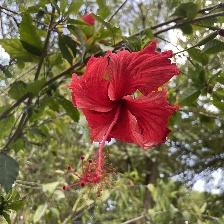hibiscus: (57, 40, 186, 196)
